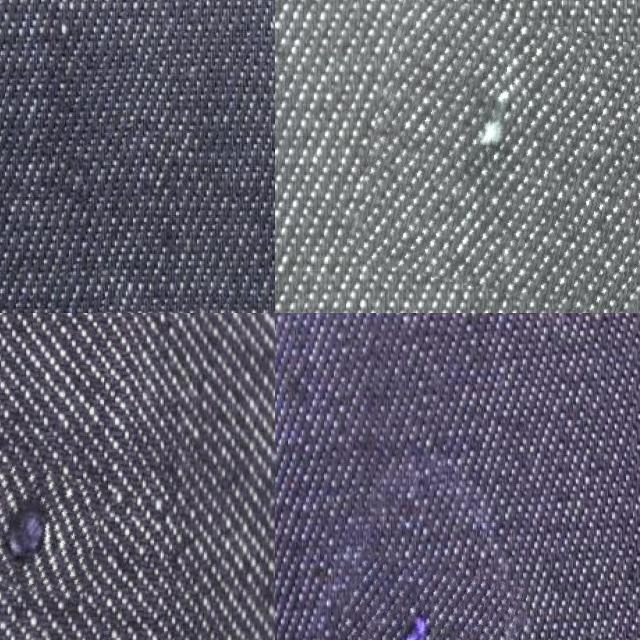stains: (359, 6, 640, 308), (330, 558, 520, 640), (0, 465, 102, 597)
